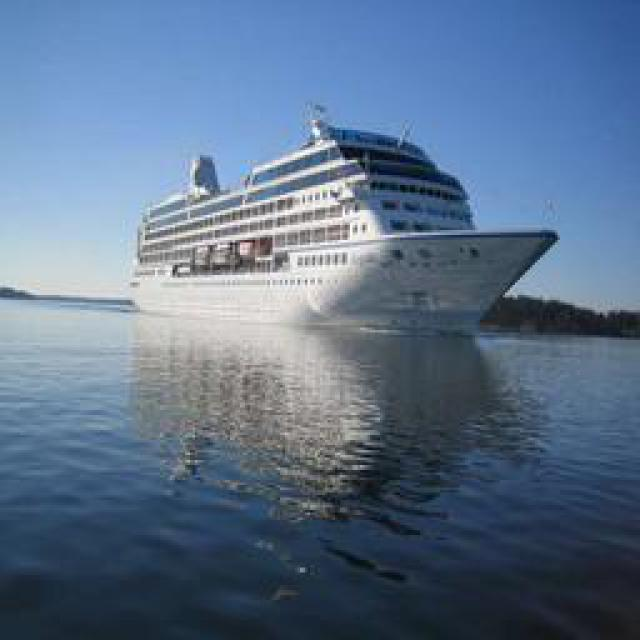Ship: (130, 117, 566, 330)
